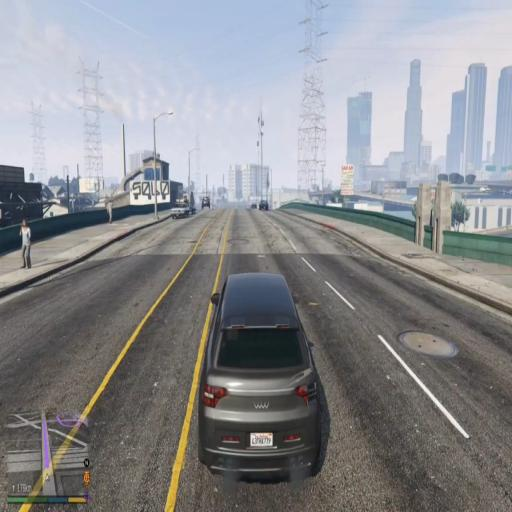Cars: (194, 261, 328, 486), (168, 194, 192, 222), (200, 193, 212, 211)
People: (16, 216, 36, 275), (105, 197, 114, 226)
